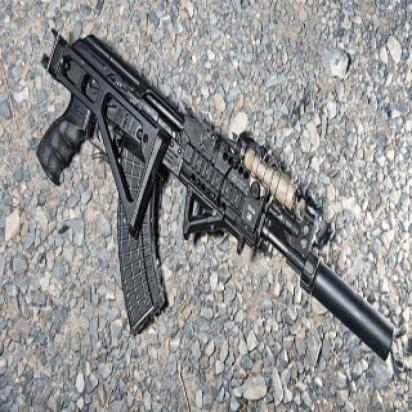Gun: (33, 21, 400, 369)
